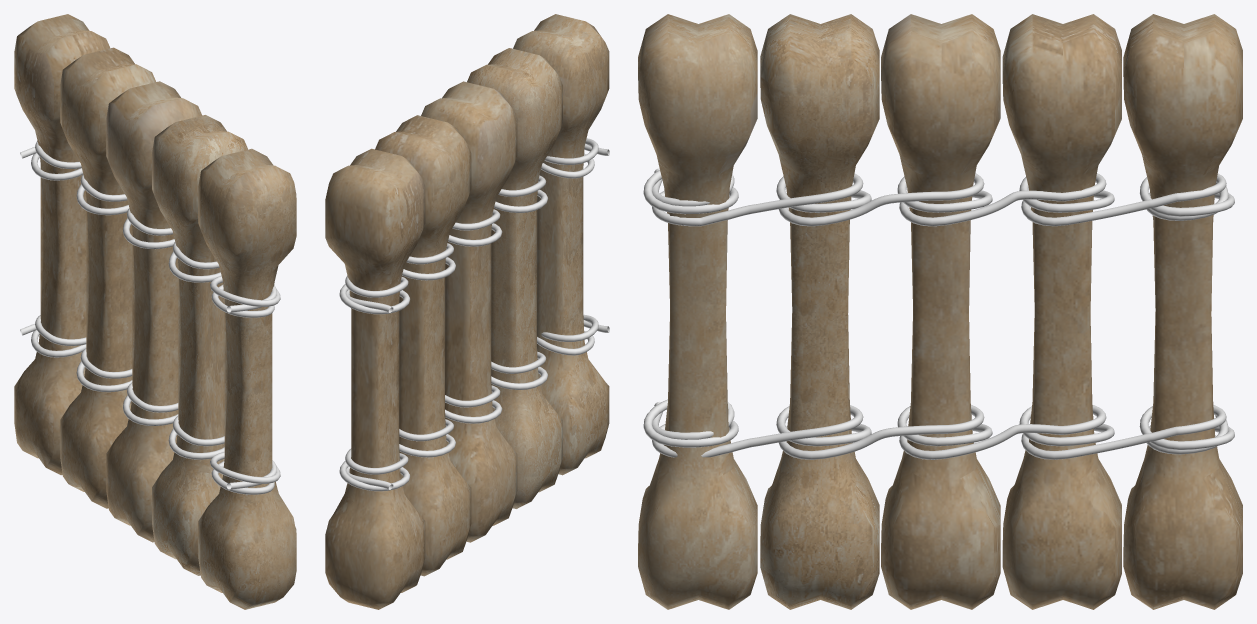
File: boneAndRopeV3.fbx
3 views of the same model, side by side, from view 1: azimuth 30°, elevation 25°; view 2: azimuth 150°, elevation 25°; view 3: azimuth 270°, elevation 25° (orthographic). The views are drawn at different scales.
Parts seen in each view (by area): view 1: BoneOriginal.002, BézierCurve.001; view 2: BoneOriginal.002, BézierCurve.001; view 3: BoneOriginal.002, BézierCurve.001.
Part boxes in pixels (x1,y1,x2,y2): BoneOriginal.002: (14, 14, 296, 609); BézierCurve.001: (20, 141, 280, 494); BoneOriginal.002: (325, 14, 609, 609); BézierCurve.001: (339, 138, 609, 491); BoneOriginal.002: (638, 14, 1242, 609); BézierCurve.001: (643, 168, 1234, 459).
Bounding box in the file's own units: 158 × 852 × 810.
